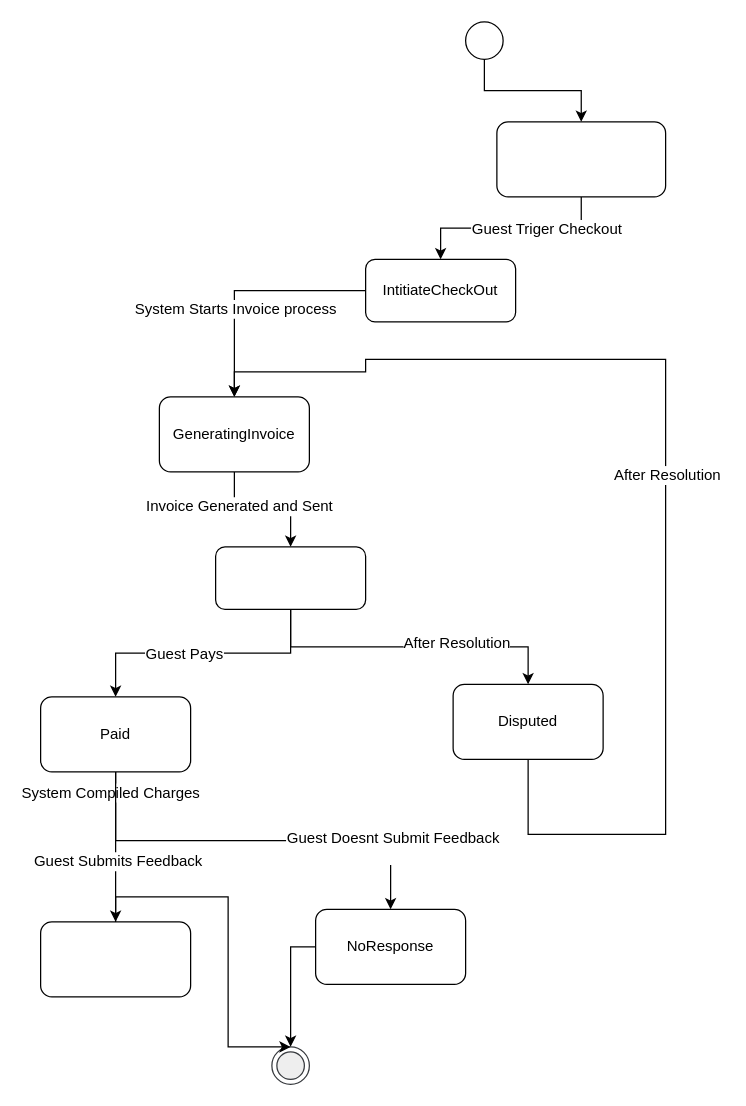
Some shapes in this 746 by 1106 pixel diagram are drawn without their labels. Each missing label, with the centre of its shape:
"CheckedIn" goes at [581,159].
"InvoiceSent" goes at [290,577].
"SurveySent" goes at [115,959].
